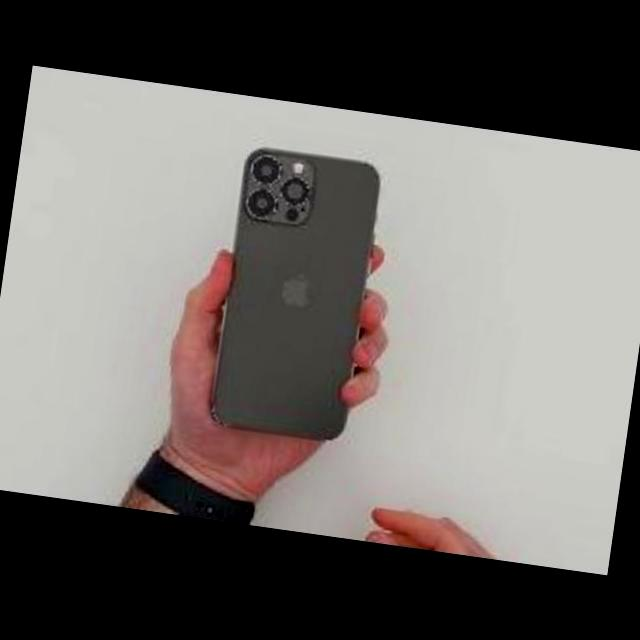phone: (210, 146, 382, 443)
